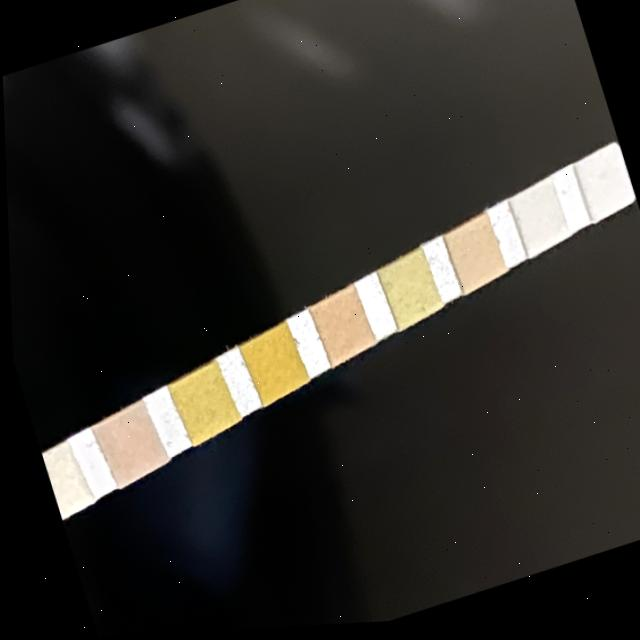Bilirubin: (39, 449, 81, 512)
Blood: (240, 328, 298, 401)
Ketone: (93, 406, 159, 481)
Leukocytes: (573, 156, 631, 221)
Nitrite: (510, 190, 566, 251)
Protein: (379, 260, 434, 324)
SpGravity: (169, 370, 229, 437)
Urobilinogen: (444, 226, 502, 292)
pH: (312, 295, 367, 359)
